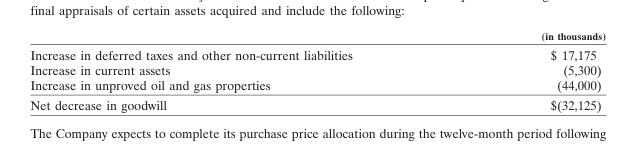table: (29, 29, 605, 112)
table column: (29, 29, 446, 112), (446, 29, 605, 112)
table column header: (29, 29, 605, 43)
table row: (29, 43, 605, 62), (29, 94, 605, 112), (29, 77, 605, 94), (29, 62, 605, 77), (29, 29, 605, 43)
